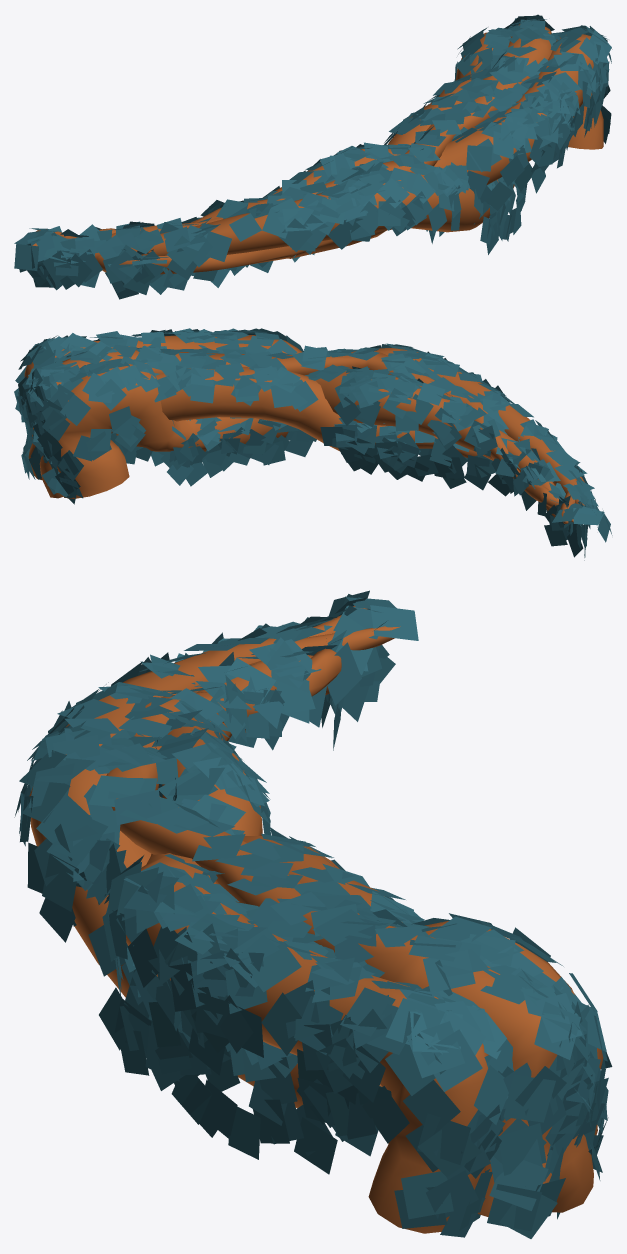
Rendered from branch_bridges_2_LOD.fbx.
3 renders of one model, top to bottom at view 1: azimuth 30°, elevation 25°; view 2: azimuth 150°, elevation 25°; view 3: azimuth 270°, elevation 25°, orthographic. The views are drawn at different scales.
Visible parts, largest first — view 1: vine_leaves_2_LOD_0, bridge_with_leaves_2_LOD_0; view 2: vine_leaves_2_LOD_0, bridge_with_leaves_2_LOD_0; view 3: vine_leaves_2_LOD_0, bridge_with_leaves_2_LOD_0.
Boxes of the visible parts, x1,y1,x2,y2 form: vine_leaves_2_LOD_0: (14,14,612,299); bridge_with_leaves_2_LOD_0: (32,24,603,274); vine_leaves_2_LOD_0: (14,328,612,560); bridge_with_leaves_2_LOD_0: (24,335,584,523); vine_leaves_2_LOD_0: (14,590,612,1238); bridge_with_leaves_2_LOD_0: (29,605,603,1233).
Size of what is drawn, in the model's own units: 1727 by 390 by 781.
